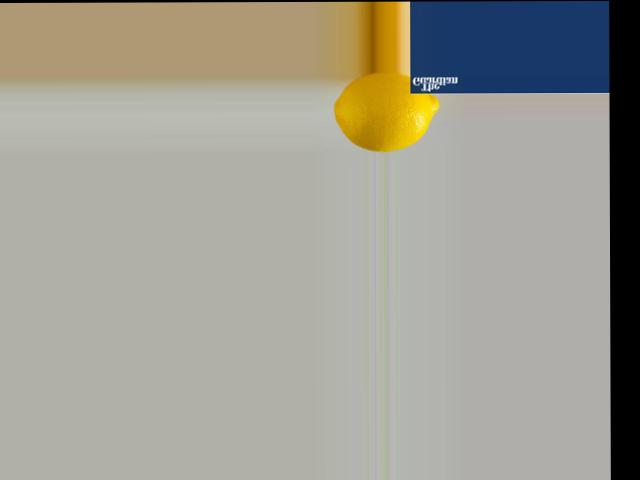lemon: (333, 71, 436, 152)
